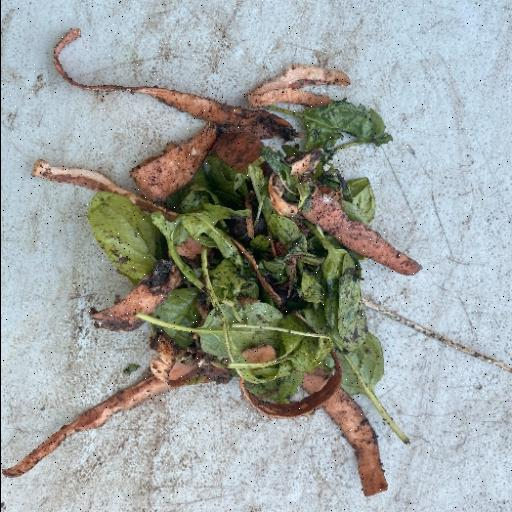Waste: (4, 26, 422, 496)
